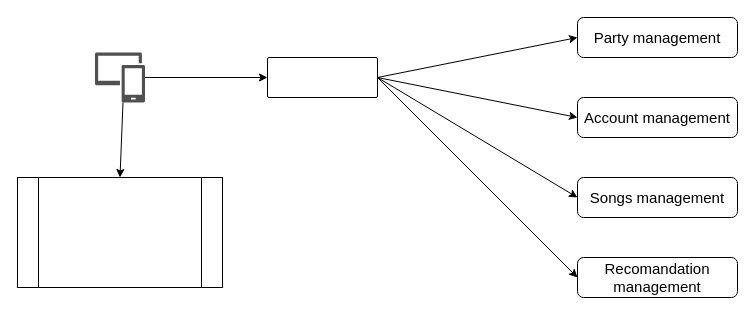
Some shapes in this 755 by 315 pixel diagram are drawn without their labels. Each missing label, with the box of its shape:
Api: (266, 56, 378, 98)
Frontend pages: Login/Register Create/Join Party Party management Statistics: (16, 176, 222, 288)
